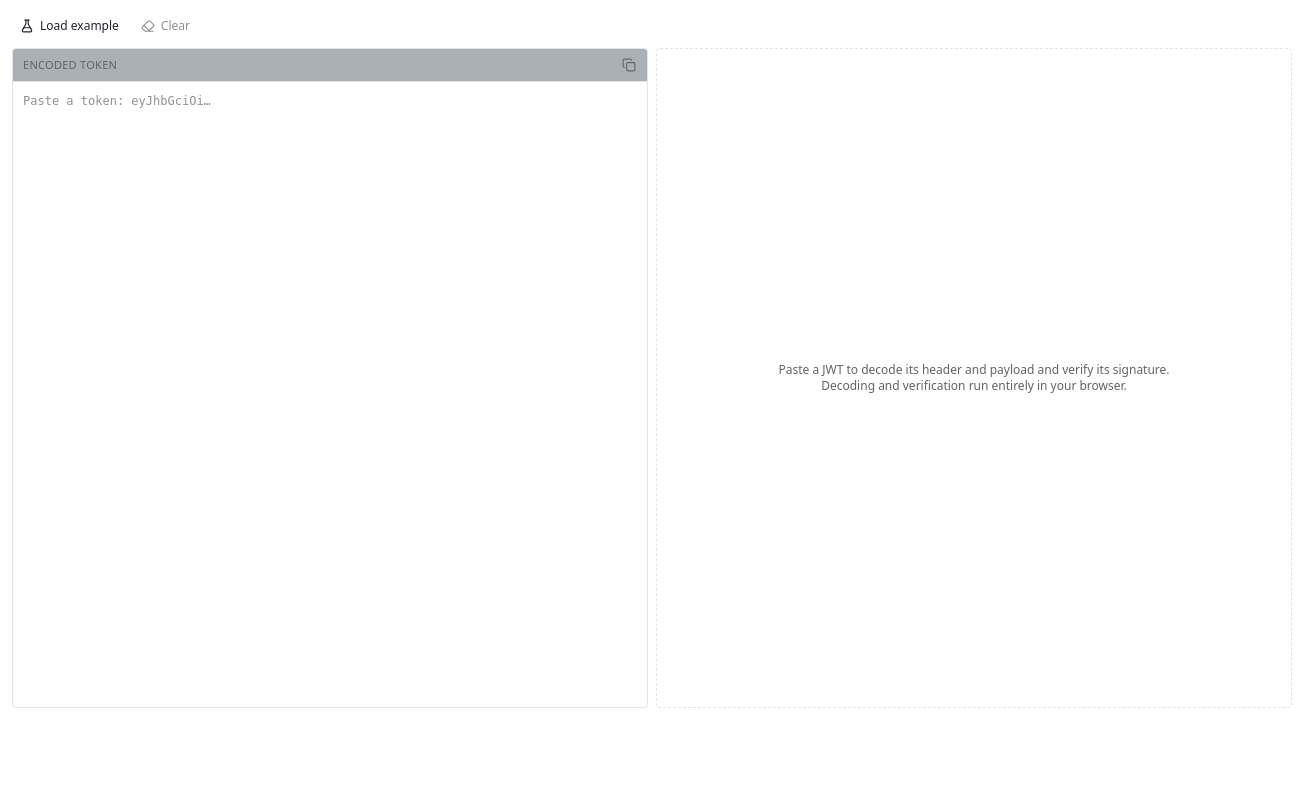
JwtDecoder › flags a wrong secret and malformed tokens
Click the button "Load example": (69, 26) [12,12,127,40]
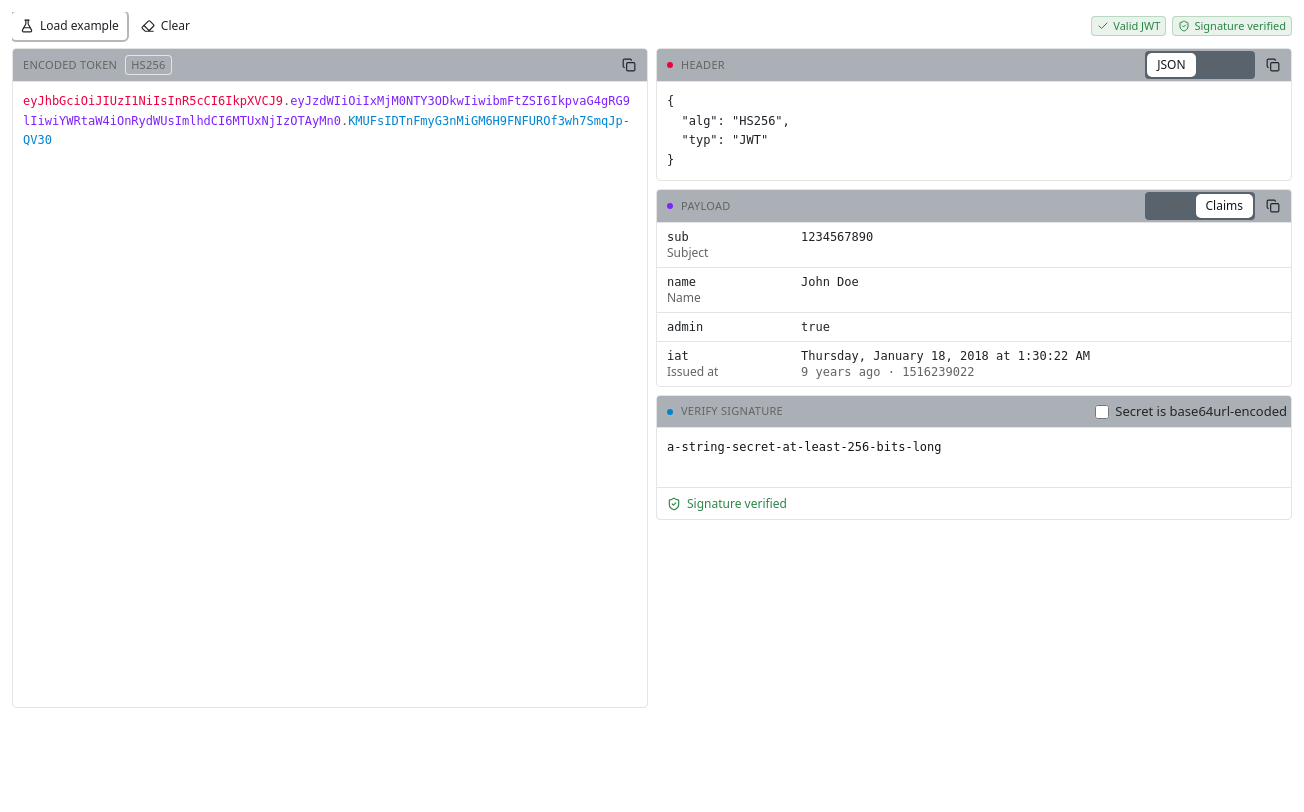
In the text box named "Secret": (974, 458) [657,428,1291,487], type "x"
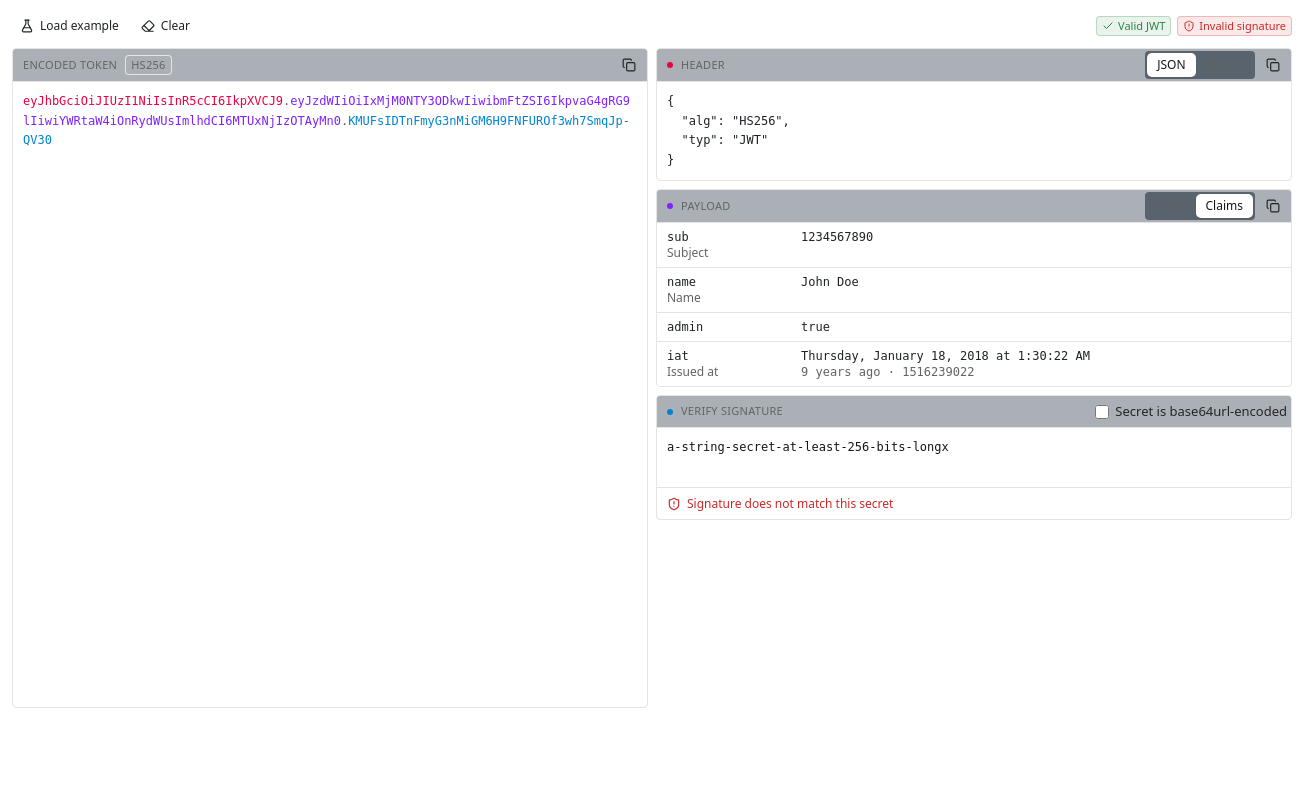
Check: the text "Signature does not match this secret" is shown, box [667,496,893,512]
Replace the text in the text box named "Encoded JWT" with "not-a-jwt": (330, 394) [13,82,647,707]
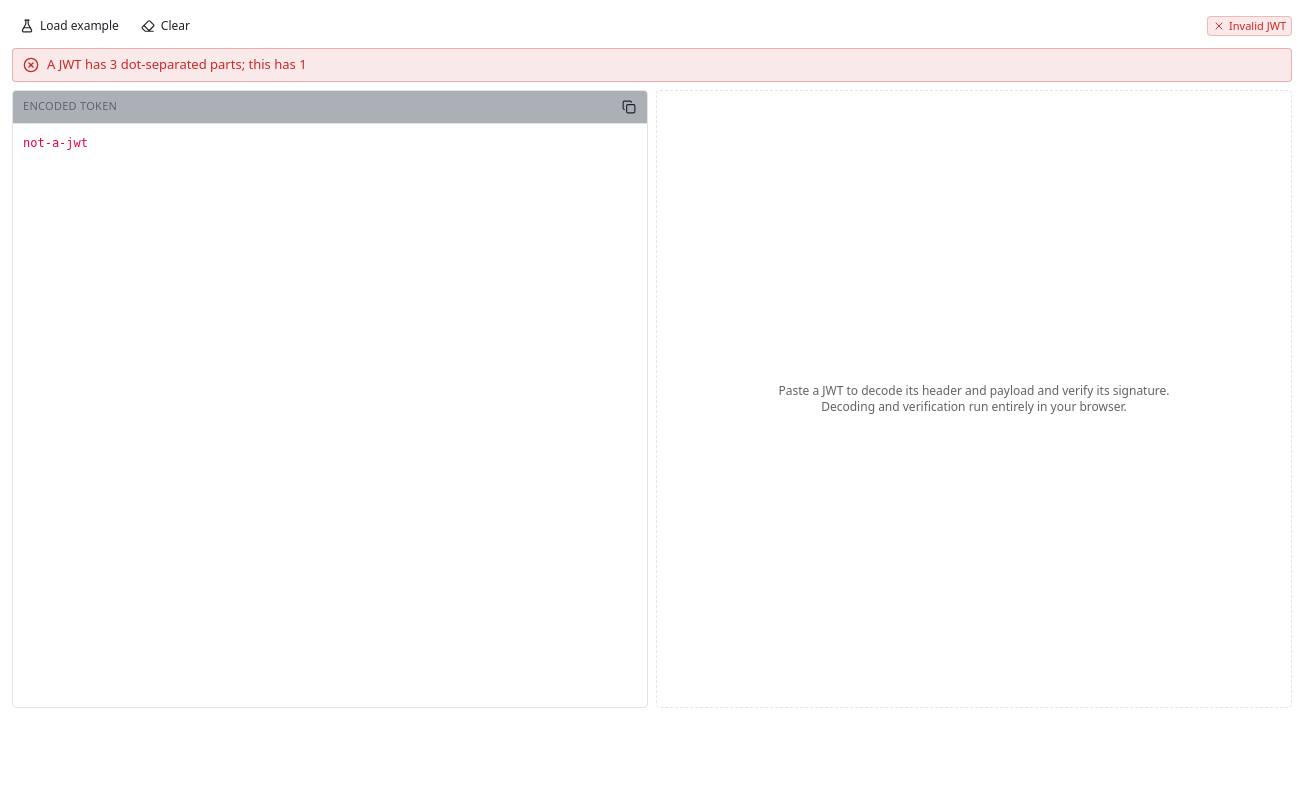
Check: the message shows "3 dot-separated parts", box [47,55,307,73]
